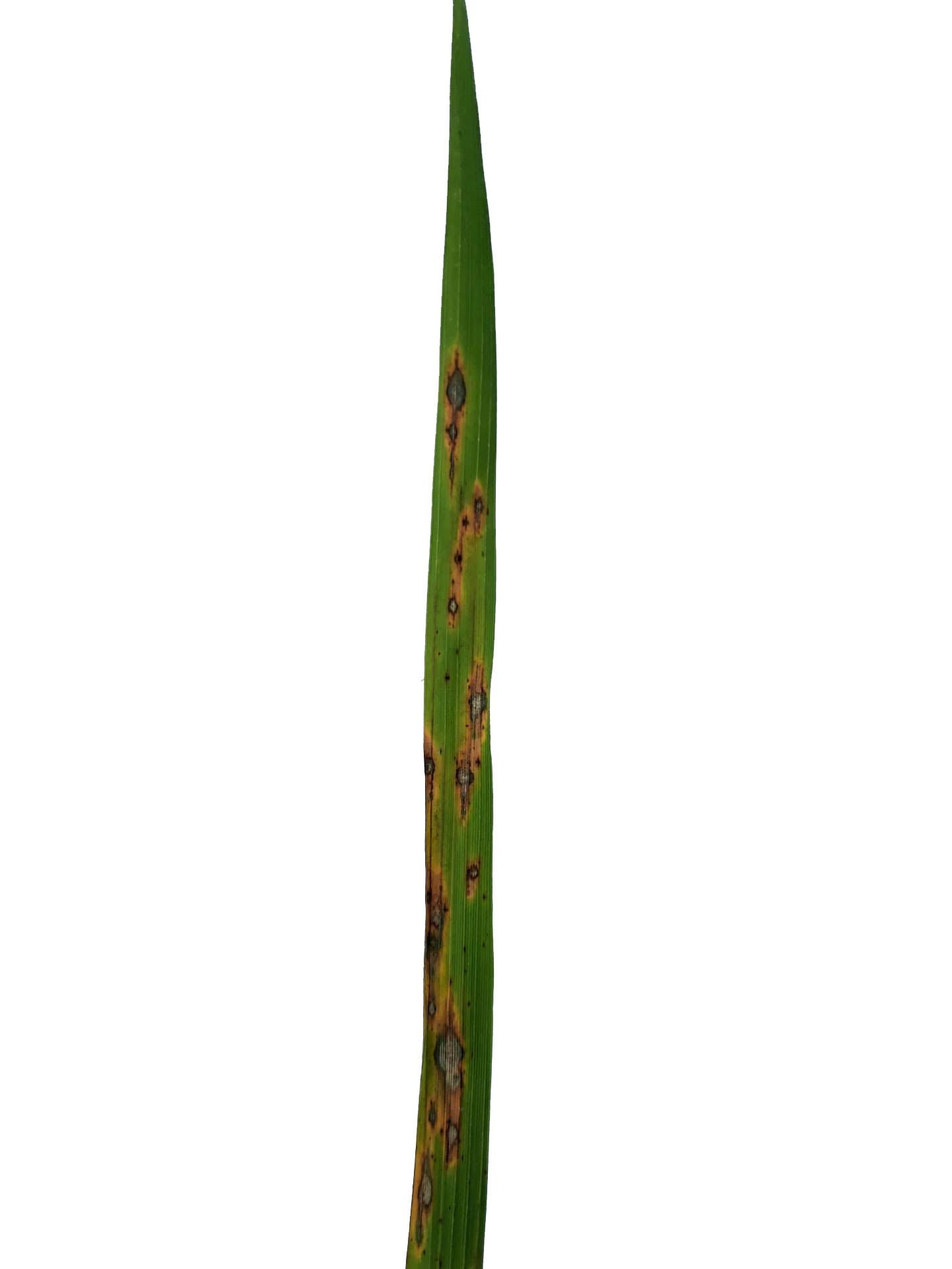Rice blast: (432, 1012, 465, 1108), (443, 344, 465, 467), (414, 1150, 439, 1248), (428, 1111, 465, 1171), (424, 884, 446, 982), (451, 749, 475, 826), (467, 660, 486, 744), (467, 479, 490, 534), (425, 735, 439, 803), (444, 586, 464, 629), (466, 861, 488, 900), (426, 989, 443, 1027), (452, 536, 466, 582)
